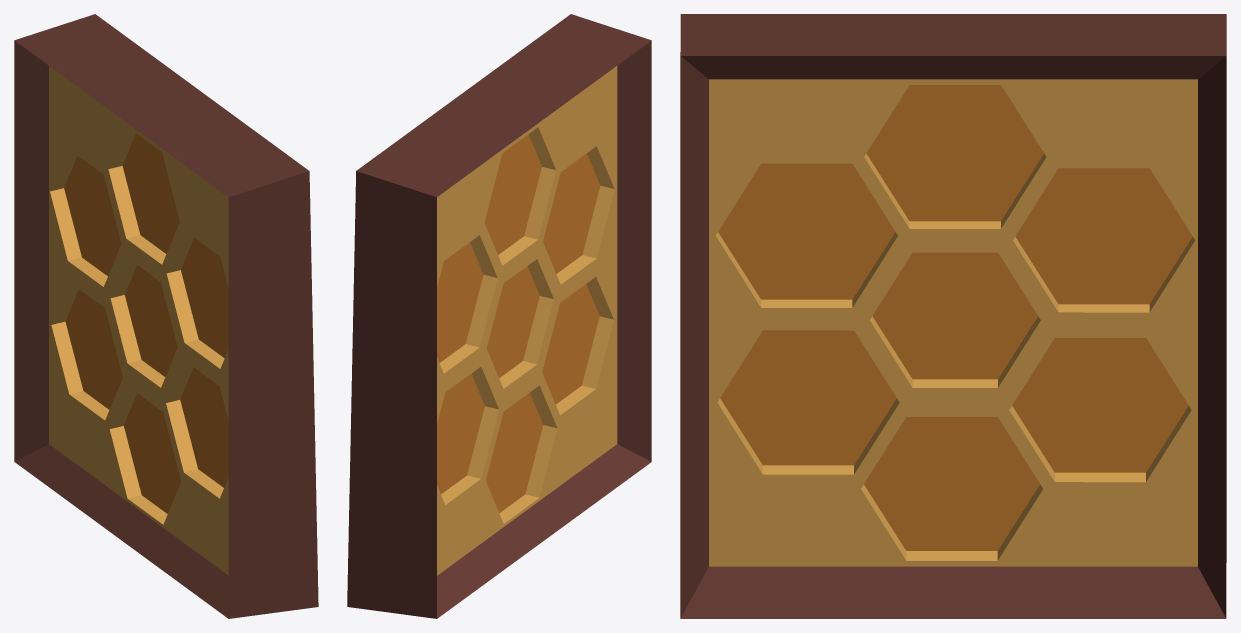
Rendered from honeycombs_in_frame.fbx.
The picture shows the model from 3 angles, left to right: view 1: azimuth 30°, elevation 25°; view 2: azimuth 150°, elevation 25°; view 3: azimuth 270°, elevation 25°; orthographic projection. The views are drawn at different scales.
Parts seen in each view (by area): view 1: honeycombs_in_frame; view 2: honeycombs_in_frame; view 3: honeycombs_in_frame.
Boxes of the visible parts, box(x1,y1,x2,y2) form: honeycombs_in_frame: box(14, 14, 318, 618); honeycombs_in_frame: box(347, 14, 651, 618); honeycombs_in_frame: box(680, 14, 1226, 618).
Size of the model in its own units: 5.03 by 23.37 by 20.75.
